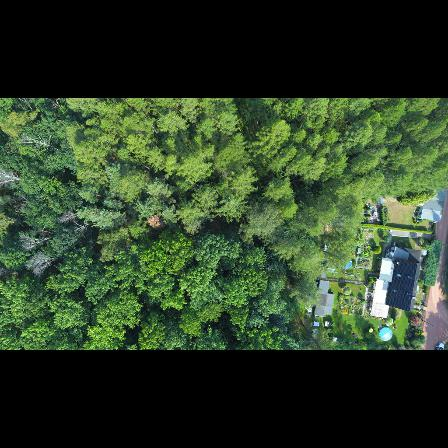Dead: (17, 133, 61, 155), (25, 253, 67, 276), (17, 226, 56, 250), (0, 168, 23, 187)
